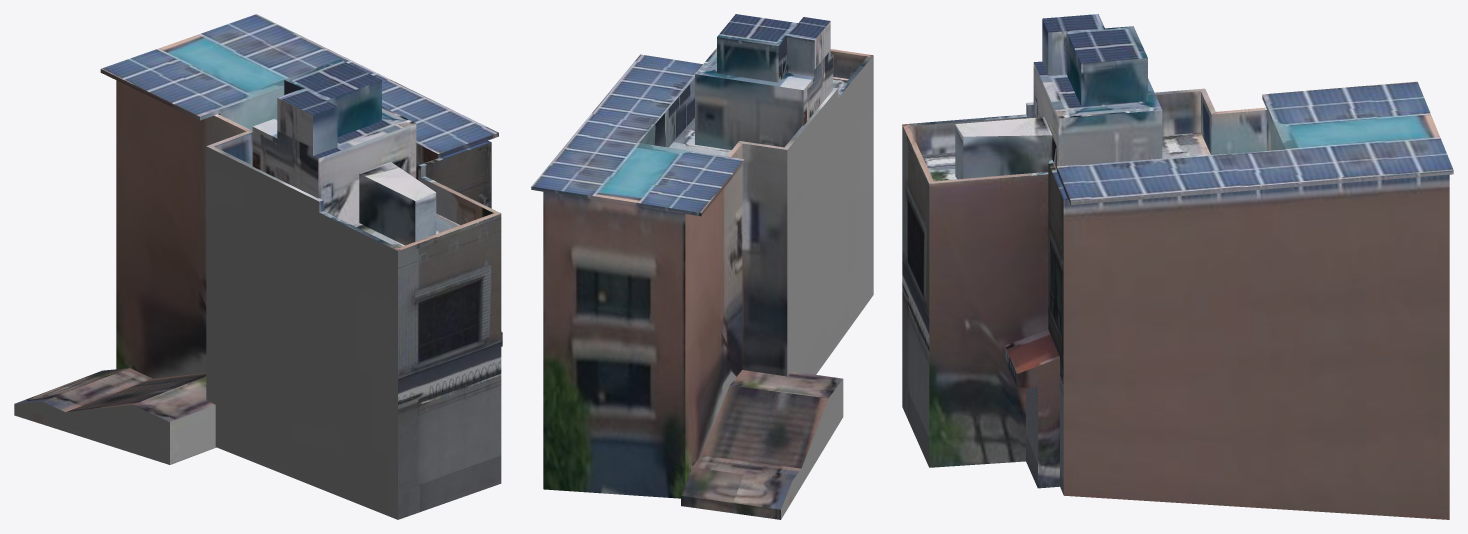
3 renders of one model, left to right at view 1: azimuth 30°, elevation 25°; view 2: azimuth 150°, elevation 25°; view 3: azimuth 270°, elevation 25°, orthographic. The views are drawn at different scales.
Parts seen in each view (by area): view 1: B281134032601063A0; view 2: B281134032601063A0; view 3: B281134032601063A0.
Part boxes in pixels (box(x1,y1,x2,y2)): B281134032601063A0: box(14, 14, 502, 519); B281134032601063A0: box(531, 14, 873, 519); B281134032601063A0: box(902, 14, 1453, 519).
Size of the model in its own units: 10.32 by 12.73 by 14.6.
Materials: 1 (1 with a texture image).
